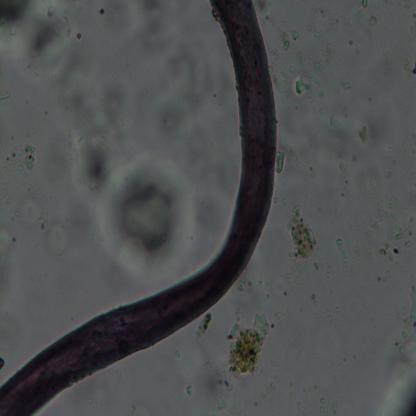Background material: (74, 136, 198, 281), (337, 184, 416, 268), (152, 43, 210, 138), (0, 182, 70, 258), (94, 1, 180, 60), (59, 64, 126, 136), (223, 309, 272, 386), (355, 130, 414, 192), (22, 14, 73, 75), (288, 206, 315, 286), (382, 354, 416, 414), (300, 2, 354, 39), (200, 362, 231, 408), (2, 144, 38, 180), (285, 68, 320, 105), (312, 289, 345, 325), (401, 284, 416, 354), (0, 1, 39, 24), (276, 144, 298, 180), (307, 47, 341, 70), (373, 40, 399, 70), (298, 154, 319, 186), (193, 311, 213, 342), (280, 29, 302, 55), (240, 273, 262, 298), (254, 386, 278, 406), (324, 101, 339, 132), (401, 56, 416, 78), (180, 381, 198, 399), (368, 315, 376, 351), (358, 124, 370, 146), (287, 396, 302, 410), (365, 14, 379, 29), (0, 89, 13, 102), (340, 81, 352, 92), (316, 397, 326, 410), (324, 266, 334, 279), (339, 159, 347, 173), (362, 0, 370, 10)
Cotton: (0, 0, 279, 414)
